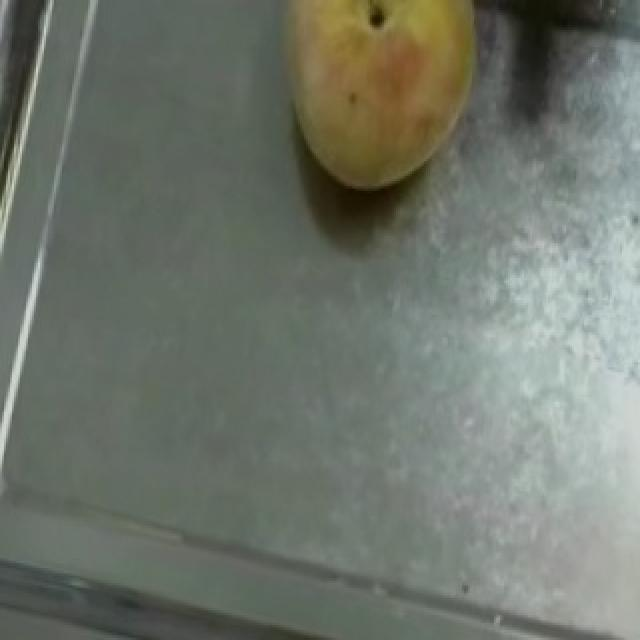Fruit: (244, 0, 512, 218)
